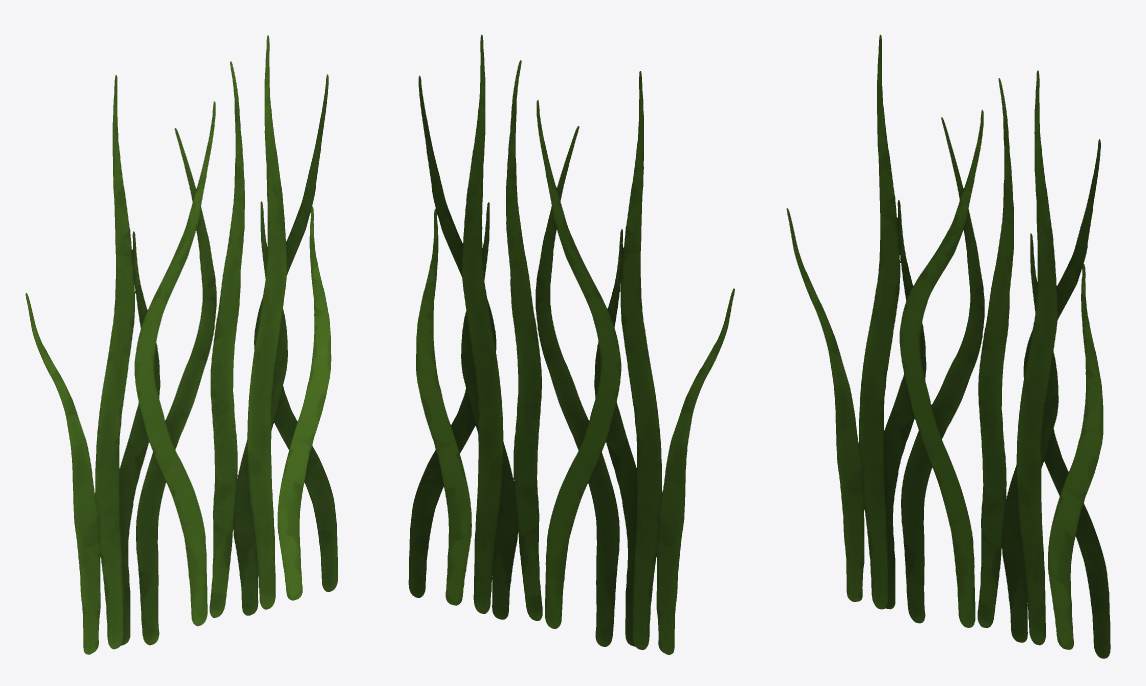
Rendered from Grass_02.fbx.
The picture shows the model from 3 angles, left to right: view 1: azimuth 30°, elevation 25°; view 2: azimuth 150°, elevation 25°; view 3: azimuth 330°, elevation 25°; orthographic projection.
Visible parts, largest first — view 1: Small_grass; view 2: Small_grass; view 3: Small_grass.
Part boxes in pixels (x1,y1,x2,y2): Small_grass: (25, 35, 337, 654); Small_grass: (408, 34, 734, 654); Small_grass: (786, 34, 1110, 658).
Size of the model in its own units: 0.2098 by 0.3475 by 0.00625.
